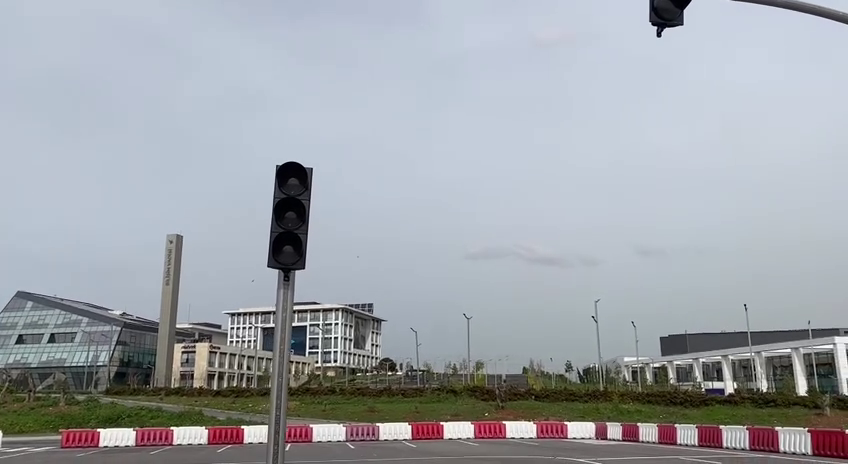trafficLight: (263, 159, 317, 276)
